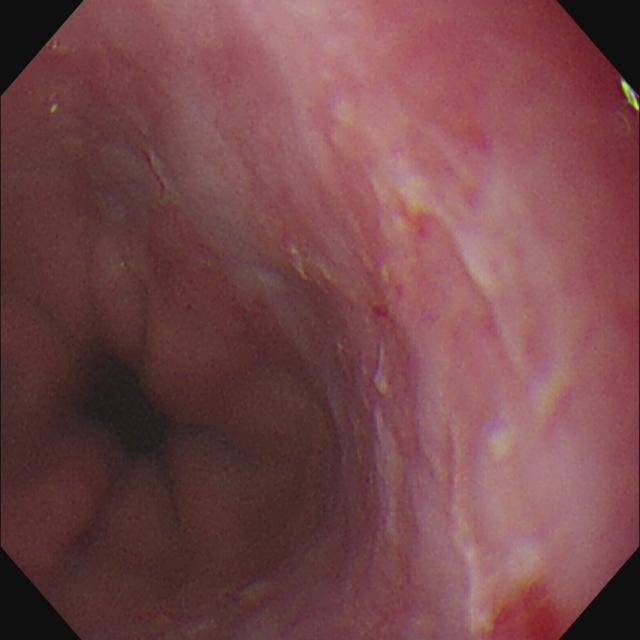A: (317, 273, 453, 564), (170, 215, 278, 350)
C: (483, 582, 568, 640), (370, 300, 391, 322)
E: (81, 359, 168, 454)
